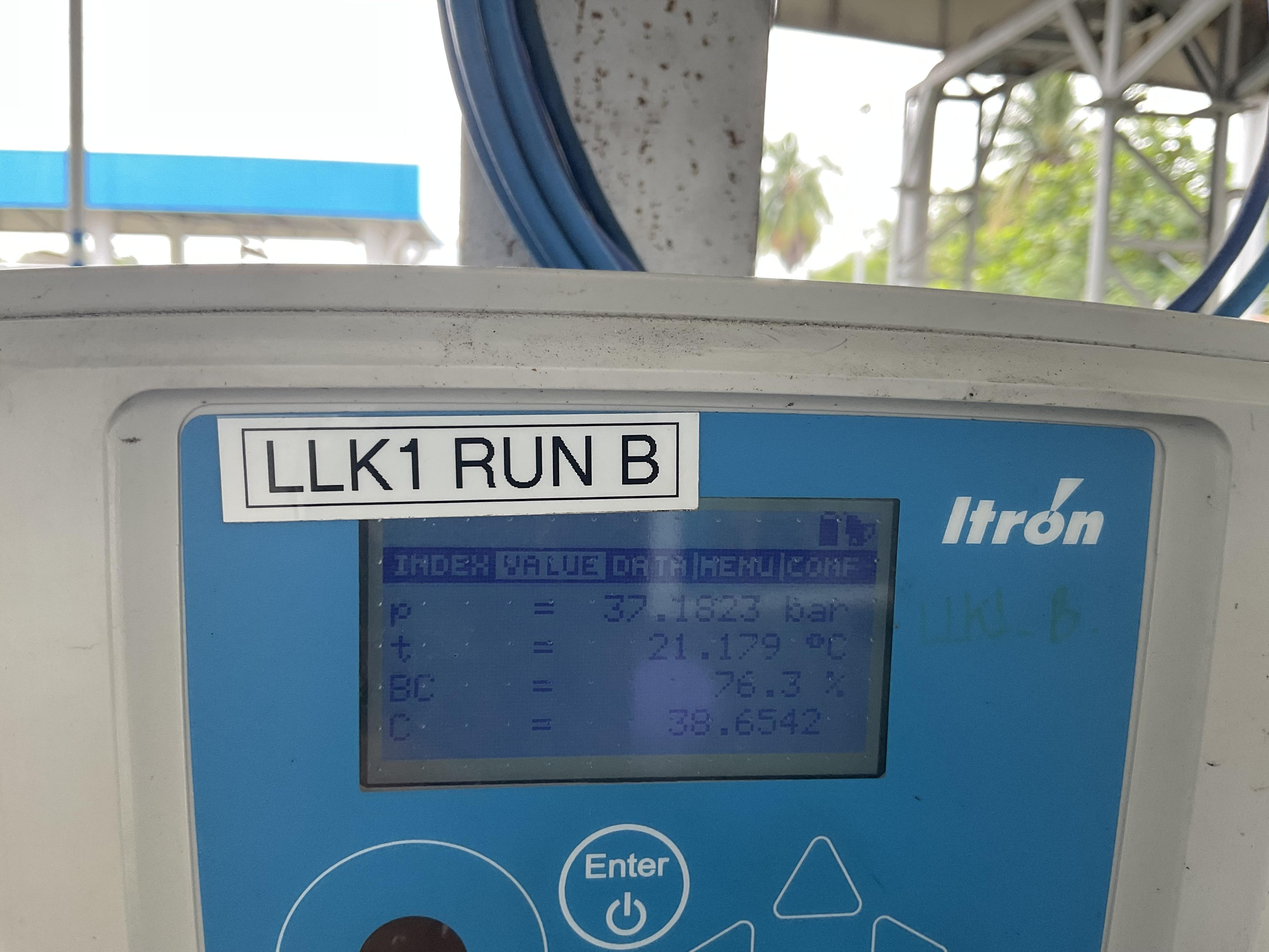digital_screen: (359, 495, 902, 791)
